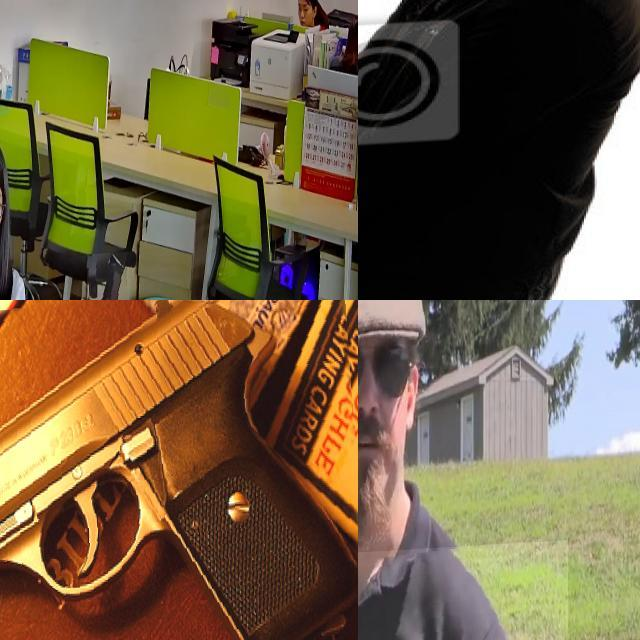gun-knife-thesis - v11 Yolov5 augmented: (0, 300, 358, 640), (358, 545, 568, 640), (358, 207, 461, 300), (87, 256, 136, 300)
